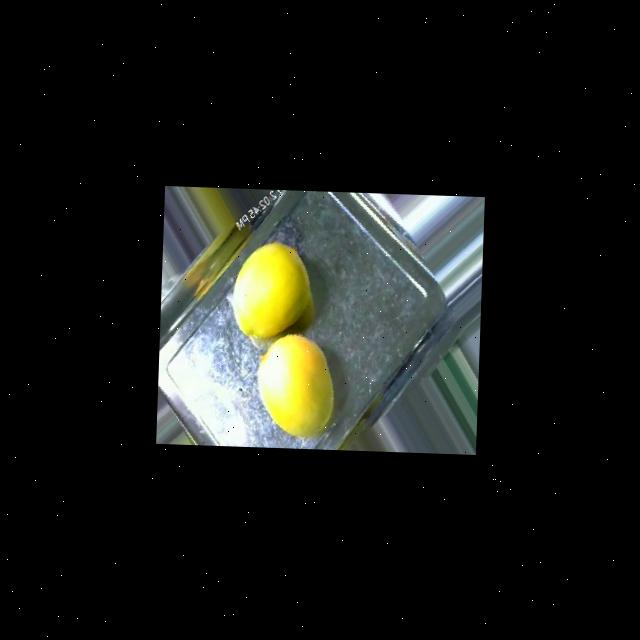Mango: (254, 330, 336, 440), (232, 240, 314, 340)
